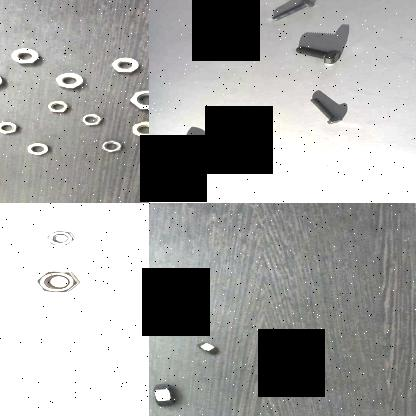Bolts: (292, 40, 345, 68), (165, 146, 209, 178), (269, 0, 316, 23)
NUTS: (30, 270, 84, 294), (41, 226, 85, 248), (149, 380, 180, 410), (109, 56, 139, 76), (190, 340, 223, 358), (50, 73, 86, 89), (125, 89, 149, 112), (10, 46, 40, 64), (23, 141, 54, 156), (98, 139, 124, 154), (127, 121, 149, 138), (0, 121, 18, 137), (0, 71, 7, 90)
